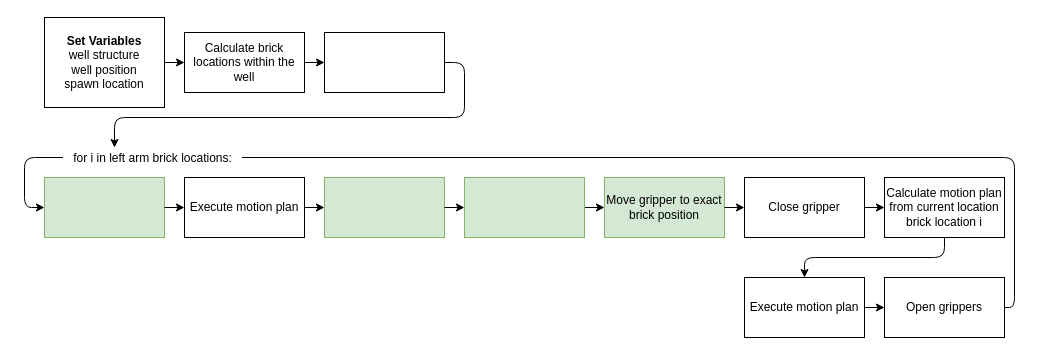
This 1040x355 diagram has some shape labels left out. Each missing label, with the centre of its shape:
"Analyse Image to calculate brick position" goes at point (524, 207).
"Calculate motion plan from current location to hover location" goes at point (104, 207).
"Move arms to starting location" goes at point (384, 62).
"Take image" goes at point (384, 207).
